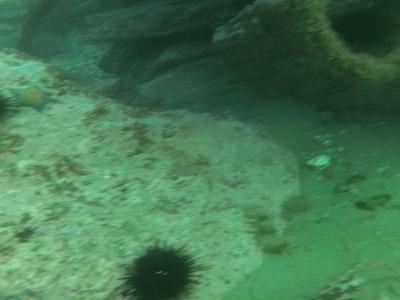holothurian: (243, 205, 294, 257)
scallop: (307, 156, 333, 171)
urchin: (116, 240, 205, 298), (337, 13, 388, 53), (3, 91, 18, 124)
